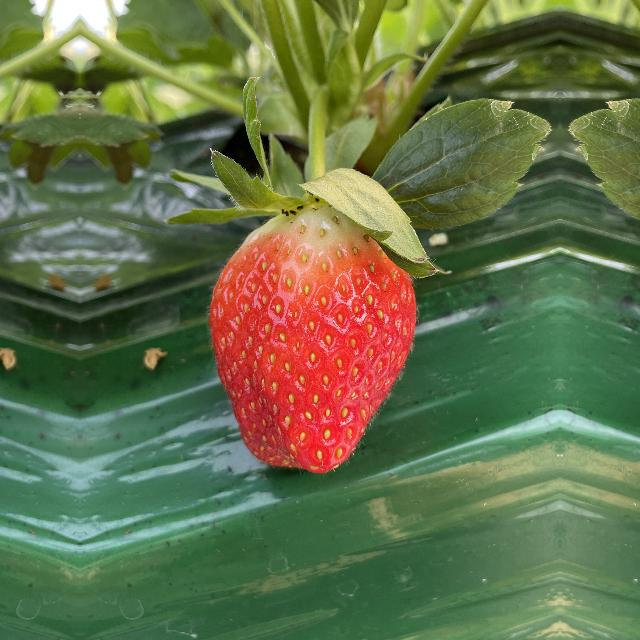Health_100: (198, 197, 420, 479)
